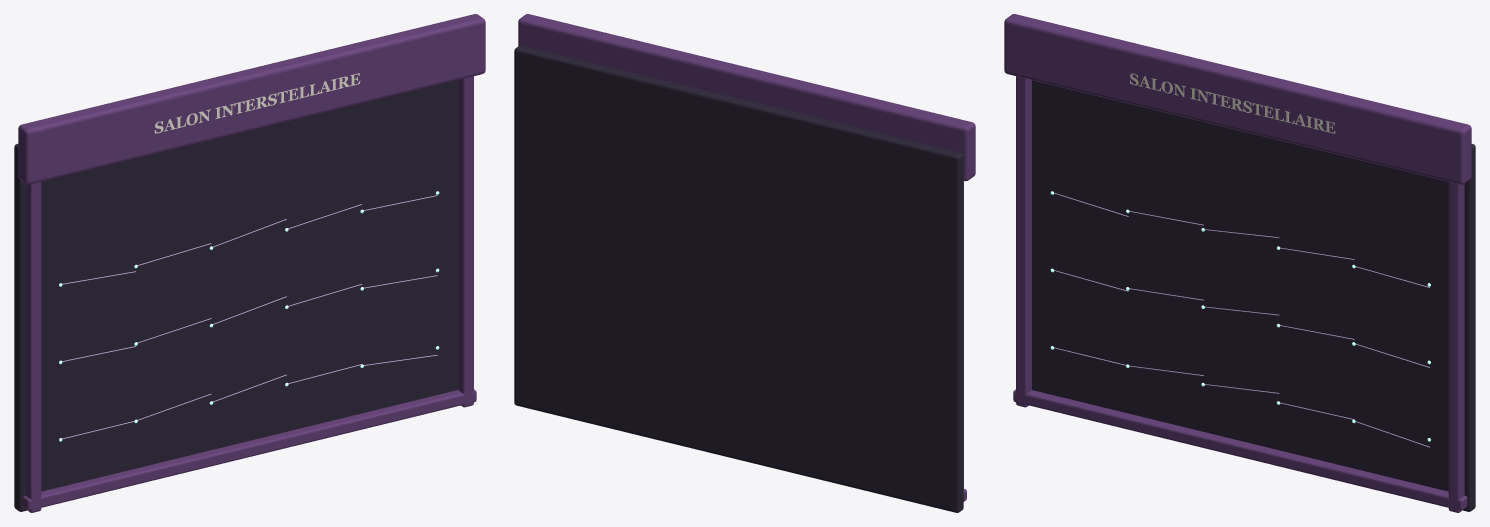
Rendered from salon_display.glb.
The picture shows the model from 3 angles, left to right: view 1: azimuth 30°, elevation 25°; view 2: azimuth 150°, elevation 25°; view 3: azimuth 330°, elevation 25°; orthographic projection. The views are drawn at different scales.
Visible parts, largest first — view 1: Shadow_back, Sign_face, Carved_frame_rail, Carved_frame_stile, Carved_frame_stile.001, Flat_name; view 2: Shadow_back, Sign_face; view 3: Shadow_back, Sign_face, Carved_frame_rail, Carved_frame_stile.001, Carved_frame_stile, Flat_name.
Boxes of the visible parts, box(x1,y1,x2,y2) form: Shadow_back: box(14, 80, 457, 511); Sign_face: box(18, 14, 485, 184); Carved_frame_rail: box(22, 389, 476, 510); Carved_frame_stile: box(25, 182, 41, 512); Carved_frame_stile.001: box(458, 76, 473, 407); Flat_name: box(154, 73, 360, 133); Shadow_back: box(514, 45, 963, 512); Sign_face: box(518, 14, 975, 181); Shadow_back: box(1032, 80, 1475, 511); Sign_face: box(1004, 14, 1471, 184); Carved_frame_rail: box(1013, 389, 1467, 510); Carved_frame_stile.001: box(1448, 182, 1464, 512); Carved_frame_stile: box(1016, 76, 1031, 407); Flat_name: box(1130, 73, 1335, 133).
Bounding box in the file's own units: 3.3 × 2.67 × 0.2082.
